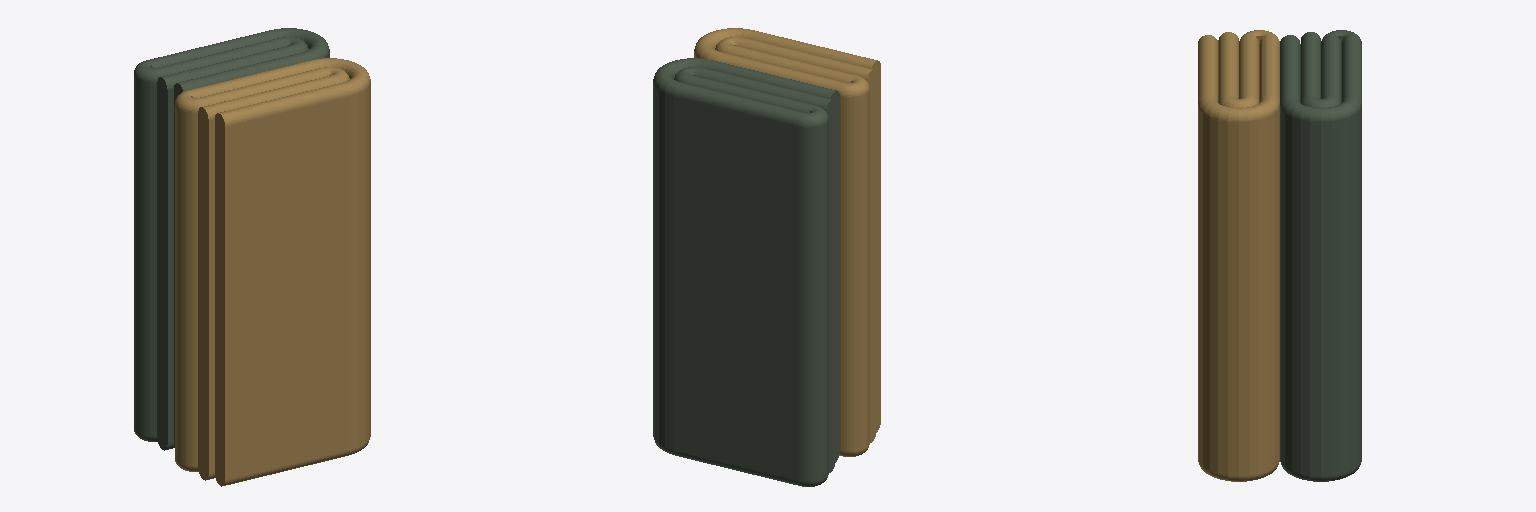
File: cat27_lyingTowel.obj
3 views of the same model, side by side, from view 1: azimuth 30°, elevation 25°; view 2: azimuth 150°, elevation 25°; view 3: azimuth 270°, elevation 25° (orthographic).
Parts seen in each view (by area): view 1: Component#3 2, Component#3; view 2: Component#3, Component#3 2; view 3: Component#3 2, Component#3.
Part boxes in pixels (x1,y1,x2,y2): Component#3 2: (175,58,370,486); Component#3: (134,28,329,450); Component#3: (653,58,839,486); Component#3 2: (694,28,880,456); Component#3 2: (1198,30,1279,481); Component#3: (1280,30,1361,481).
Size of the model in its own units: 200 by 400 by 160.